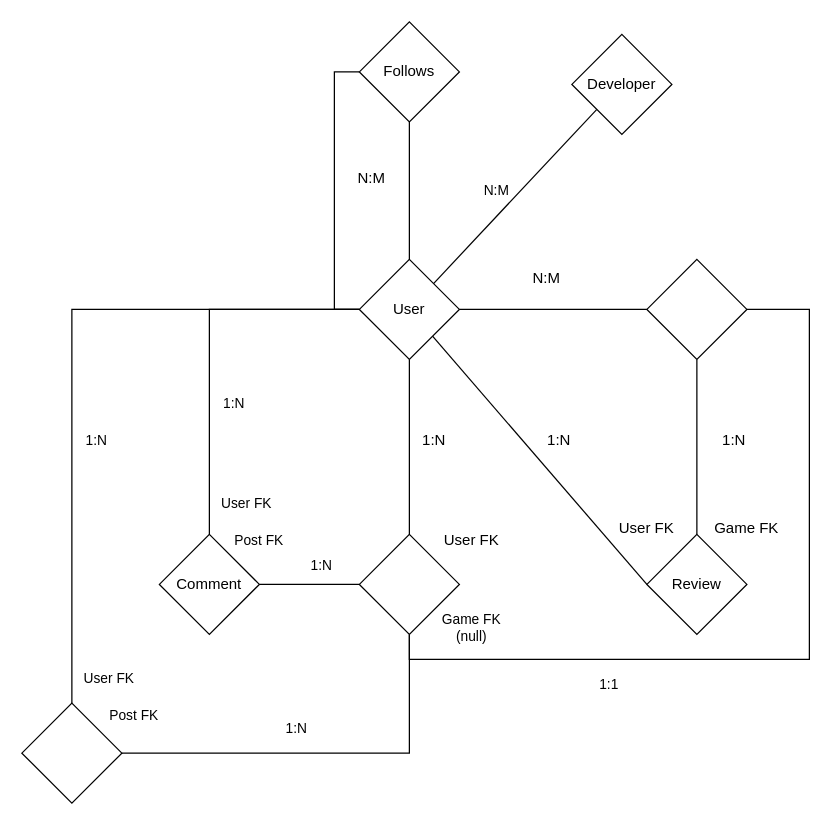
The diagram is 833 pixels wide and 825 high, and some of its shapes have lost their labels. The centre of each missing label's shape, as x and y in pixels:
Games: the point at 696,308
Like: the point at 71,752
Posts: the point at 408,583
